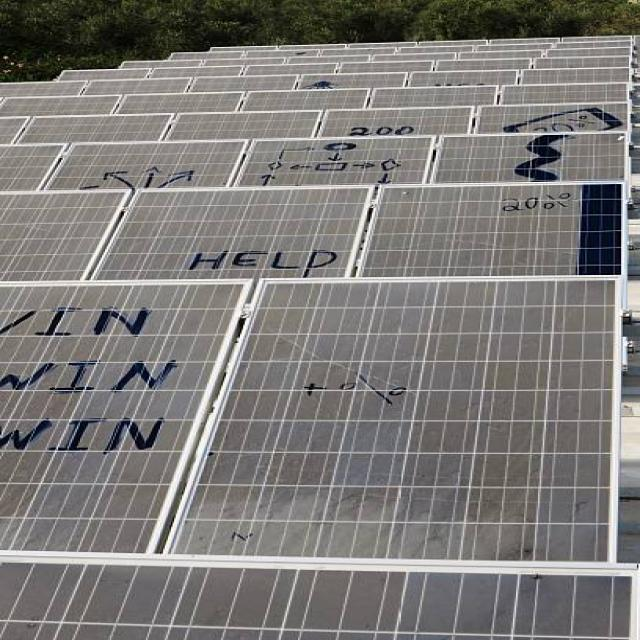Surface Contaminant: (0, 42, 640, 640), (353, 182, 584, 275)
